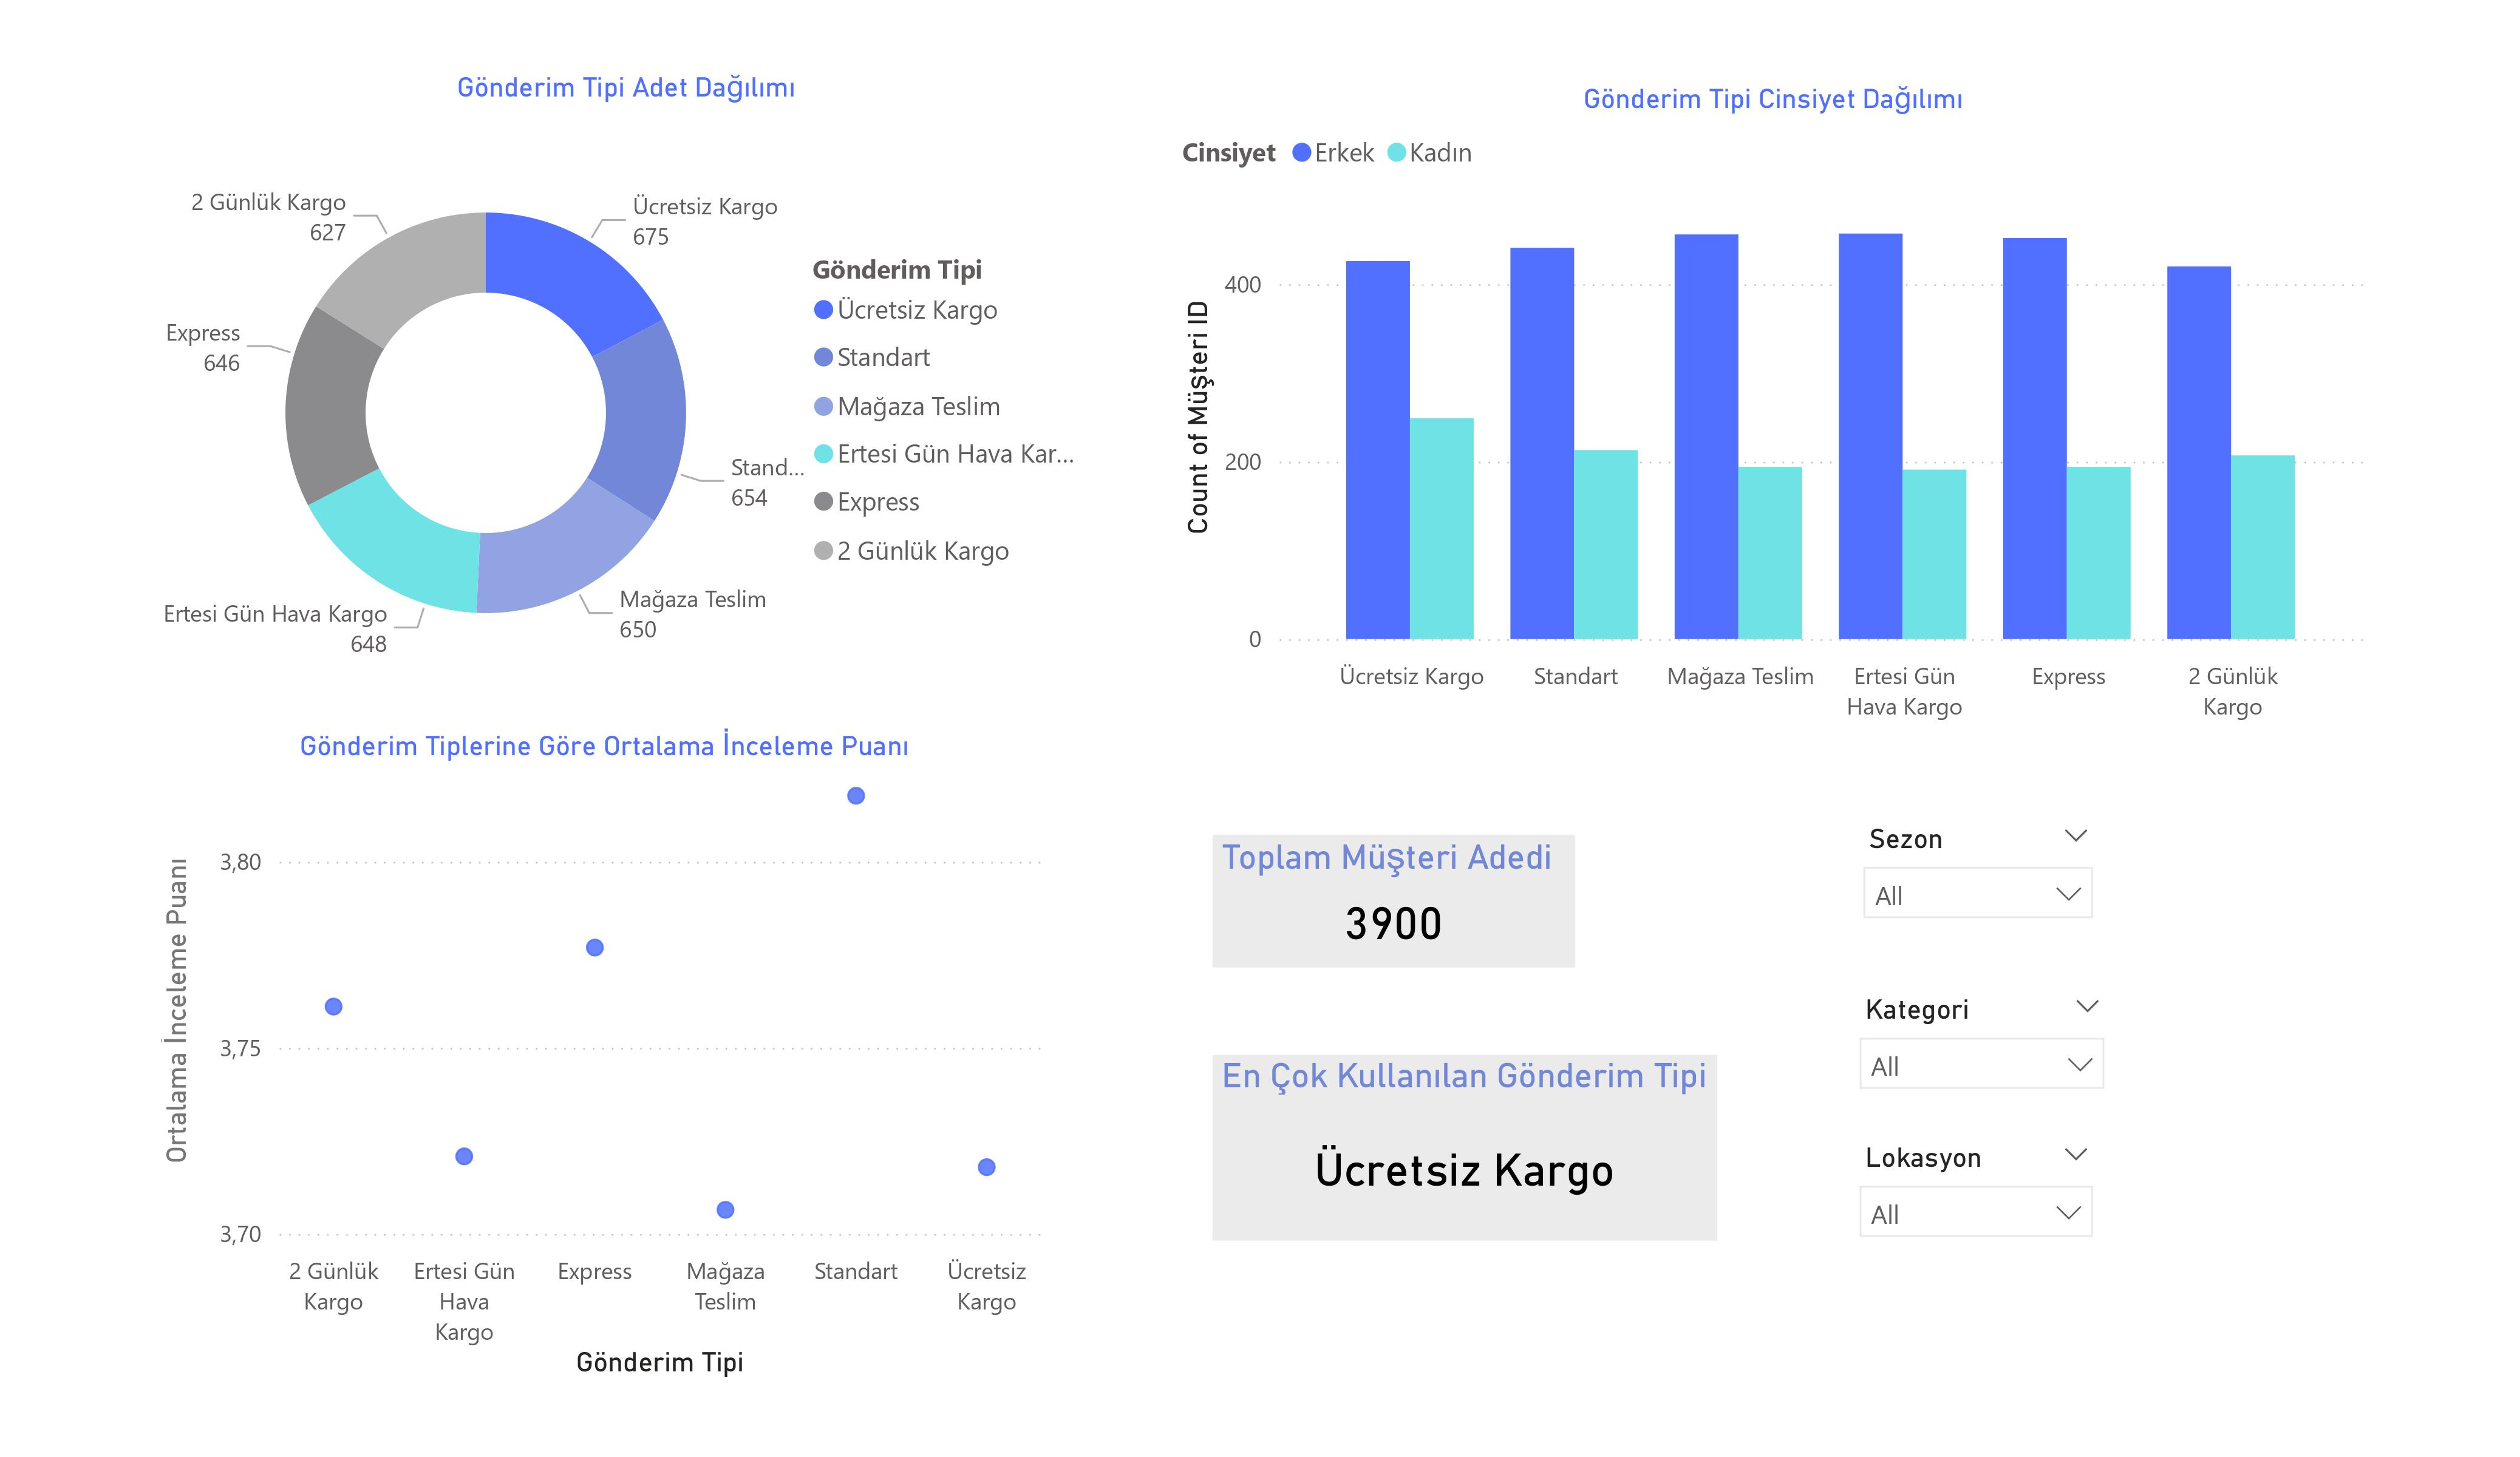

Layout of this report page (visuals, bound fields, positions):
{"tool":"powerbi","page":{"name":"Gönderim Tipi Analizi","canvas":[1280,720],"ordinal":1},"visuals":[{"type":"donutChart","title":"Gönderim Tipi Adet Dağılımı","fields":{"Y":["CountNonNull(Satış.Customer ID)"],"Category":["Shipping Type.Gönderim Tipi"]},"box":[55.5,13.3,501.9,343.8],"z":0},{"type":"card","title":"Toplam Müşteri Adedi","fields":{"Values":["CountNonNull(Satış.Customer ID)"]},"box":[614.8,416,191.4,70.4],"z":1000},{"type":"scatterChart","title":"Gönderim Tiplerine Göre Ortalama İnceleme Puanı","fields":{"X":["Shipping Type.Kargo Türü"],"Y":["Avg(Satış.Review Rating)"]},"box":[55.6,360.5,477.8,346.9],"z":2000},{"type":"card","title":"En Çok Kullanılan Gönderim Tipi","fields":{"Values":["Min(Shipping Type.Kargo Türü)"]},"box":[614.8,532.1,266.7,97.5],"z":3000},{"type":"slicer","fields":{"Values":["Satış.Lokasyon"]},"box":[945.7,572.8,143.2,72.8],"z":4000},{"type":"slicer","fields":{"Values":["Item Purchased.Kategori"]},"box":[945.7,495.1,149.4,72.8],"z":5000},{"type":"slicer","fields":{"Values":["Season.Sezon"]},"box":[948.1,404.9,140.7,67.9],"z":6000},{"type":"clusteredColumnChart","title":"Gönderim Tipi Cinsiyet Dağılımı","fields":{"Category":["Shipping Type.Gönderim Tipi"],"Y":["CountNonNull(Satış.Müşteri ID)"],"Series":["Gender.Cinsiyet"]},"box":[593.8,18.5,633.3,345.7],"z":7000}]}

Visuals, with their boxes on the page's 1280x720 design canvas (x1, y1, x2, y2). These are canvas units, not pixel positions in the 2520x1457 screenshot, which may show the page scaled, cropped or inside an application window:
"Gönderim Tipi Adet Dağılımı" donutChart: (x1=56, y1=13, x2=557, y2=357)
"Toplam Müşteri Adedi" card: (x1=615, y1=416, x2=806, y2=486)
"Gönderim Tiplerine Göre Ortalama İnceleme Puanı" scatterChart: (x1=56, y1=360, x2=533, y2=707)
"En Çok Kullanılan Gönderim Tipi" card: (x1=615, y1=532, x2=882, y2=630)
slicer - Satış.Lokasyon: (x1=946, y1=573, x2=1089, y2=646)
slicer - Item Purchased.Kategori: (x1=946, y1=495, x2=1095, y2=568)
slicer - Season.Sezon: (x1=948, y1=405, x2=1089, y2=473)
"Gönderim Tipi Cinsiyet Dağılımı" clusteredColumnChart: (x1=594, y1=18, x2=1227, y2=364)
